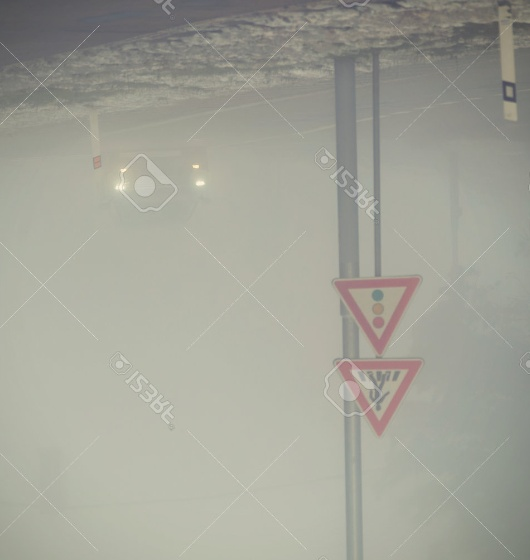Pedestrian crossing: (320, 351, 447, 439)
Traffic lights: (326, 272, 435, 349)
